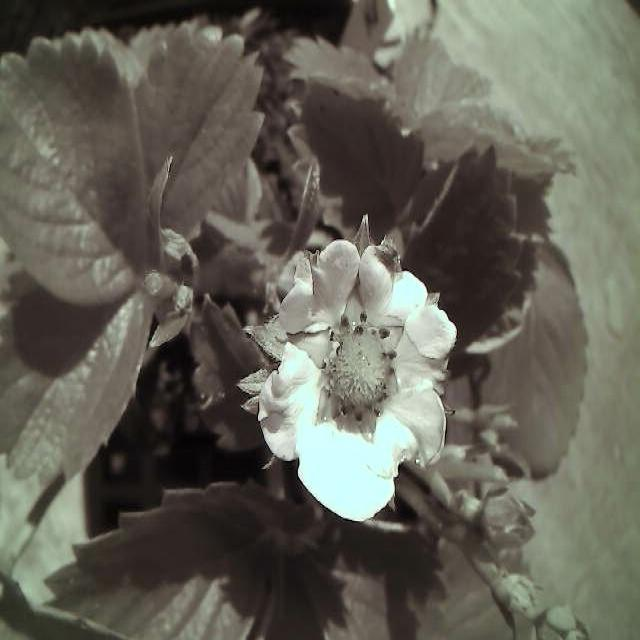flower: (250, 237, 467, 526)
